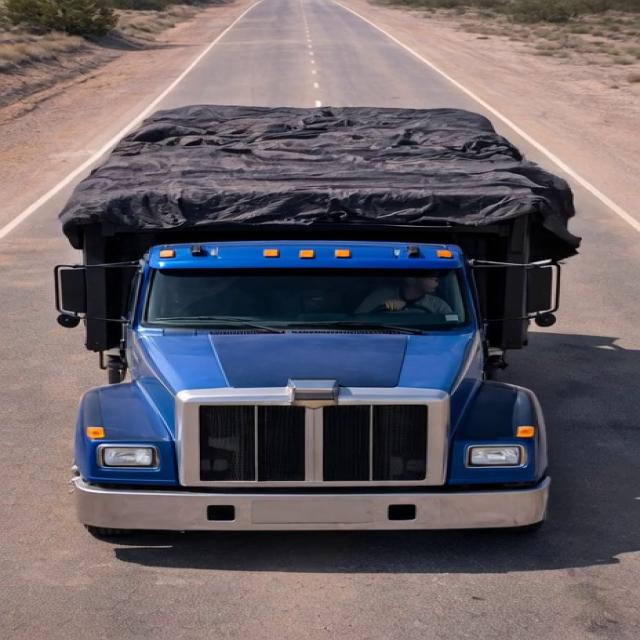trailer: (54, 93, 598, 264)
truck: (36, 51, 615, 562)
